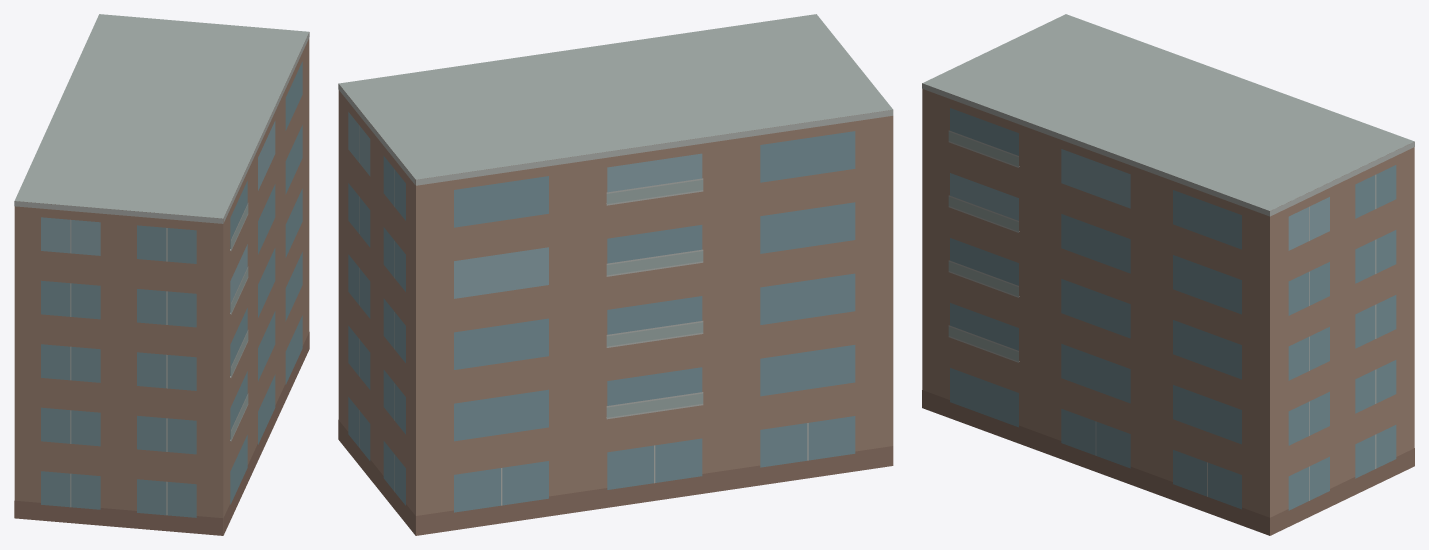
File: survey-upis-32537392.glb
The picture shows the model from 3 angles, left to right: view 1: azimuth 30°, elevation 25°; view 2: azimuth 150°, elevation 25°; view 3: azimuth 270°, elevation 25°; orthographic projection. The views are drawn at different scales.
Parts seen in each view (by area): view 1: survey-upis-32537392.tmp; view 2: survey-upis-32537392.tmp; view 3: survey-upis-32537392.tmp.
Boxes of the visible parts, x1,y1,x2,y2 form: survey-upis-32537392.tmp: (14,14,309,535); survey-upis-32537392.tmp: (338,14,893,535); survey-upis-32537392.tmp: (922,14,1414,535).
Bounding box in the file's own units: 18.75 × 14.4 × 19.8.
